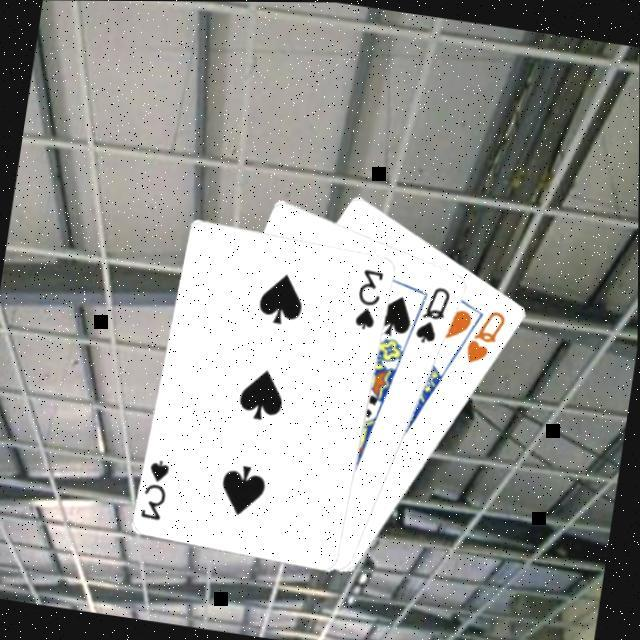3S: (352, 262, 389, 331), (139, 453, 176, 522)
QH: (463, 300, 511, 367)
QS: (413, 278, 457, 346)
